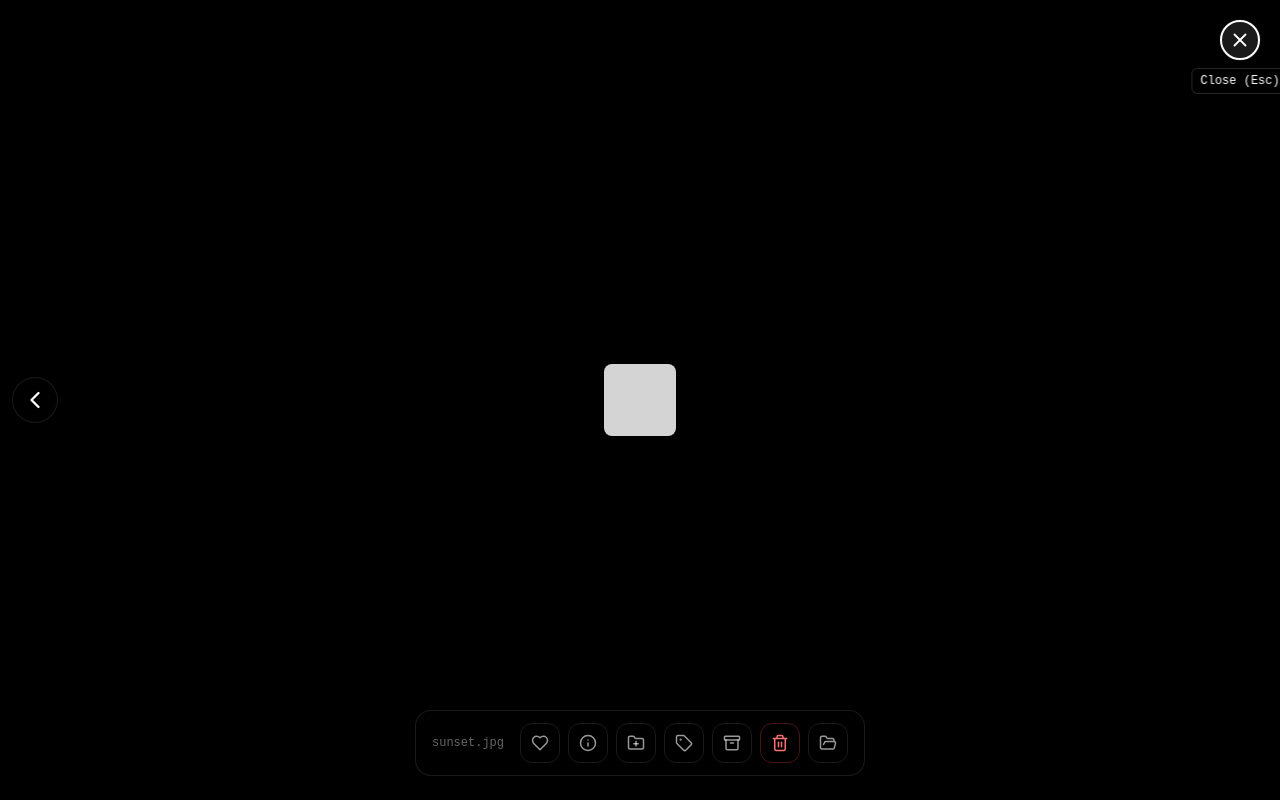
Test: PhotoModal › info drawer shows photo metadata
Click the button named "Info (I)" at (588,743), box [568,723,608,763]
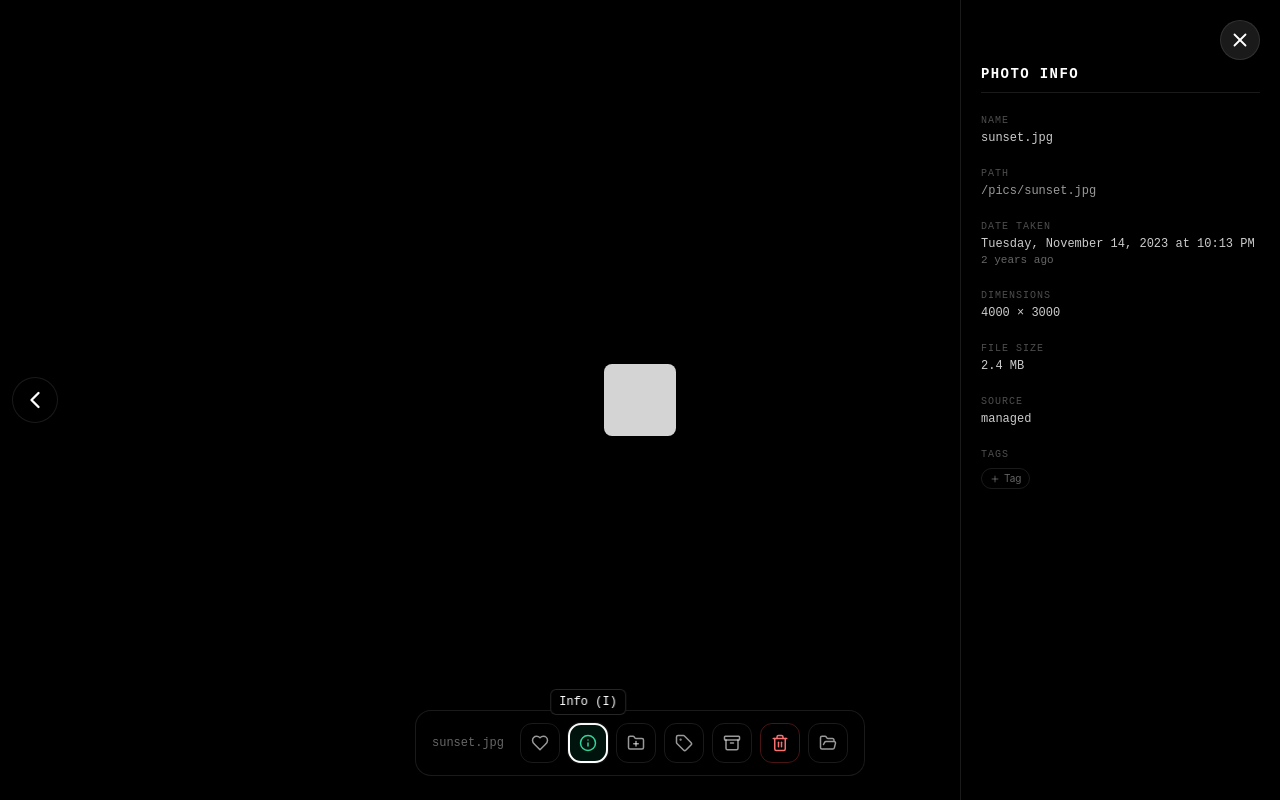
Check: the text "sunset.jpg" below "Name" is shown, box [981,131,1053,145]
Check: the text "4000 × 3000" is shown, box [981,306,1060,320]
Check: the text "2.4 MB" is shown, box [981,359,1024,373]
